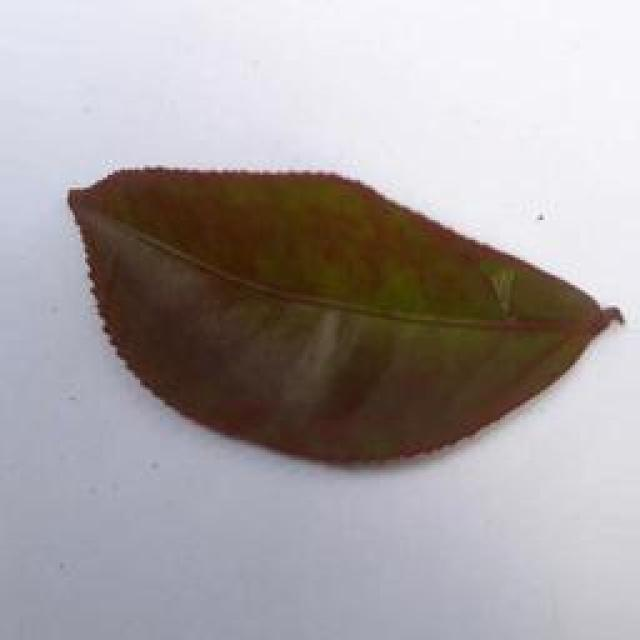Red Leaf Spot: (62, 145, 628, 474)
